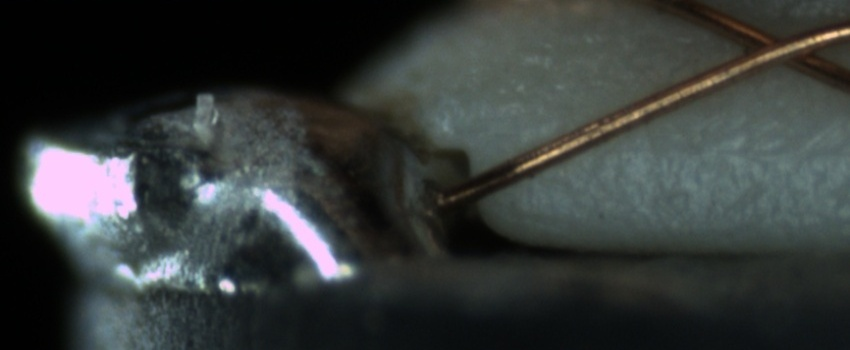CL: (711, 14, 846, 79)
DL: (611, 115, 850, 182)
